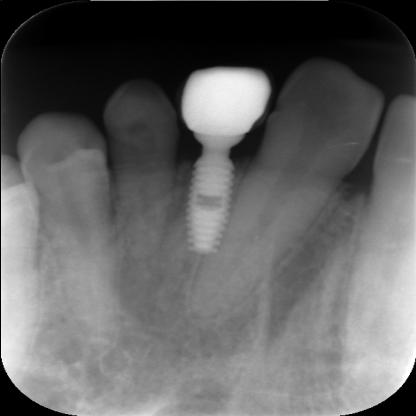Bicon: (163, 120, 255, 262)
